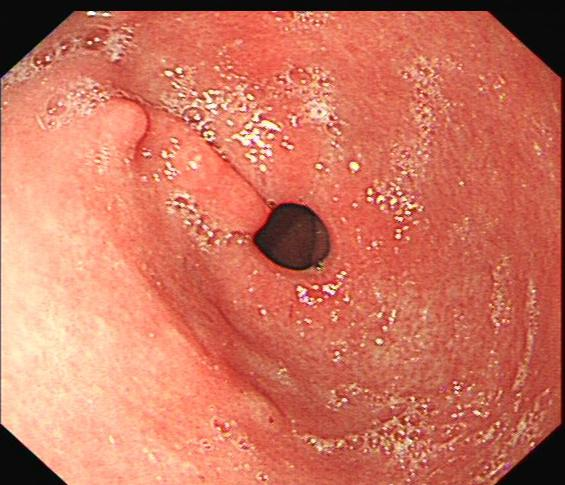Polyp: (90, 92, 154, 161)
